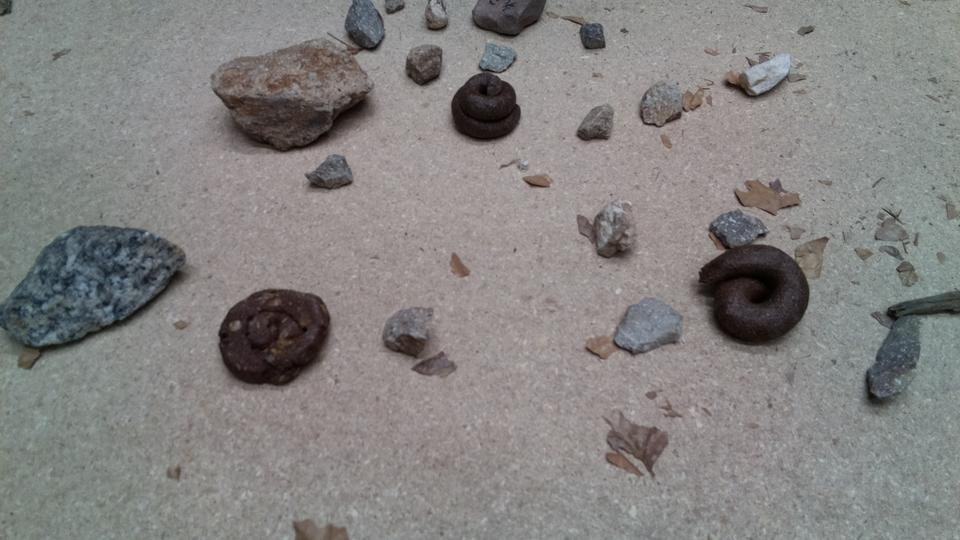poop: (697, 243, 814, 347), (215, 287, 333, 387), (450, 69, 525, 142)
